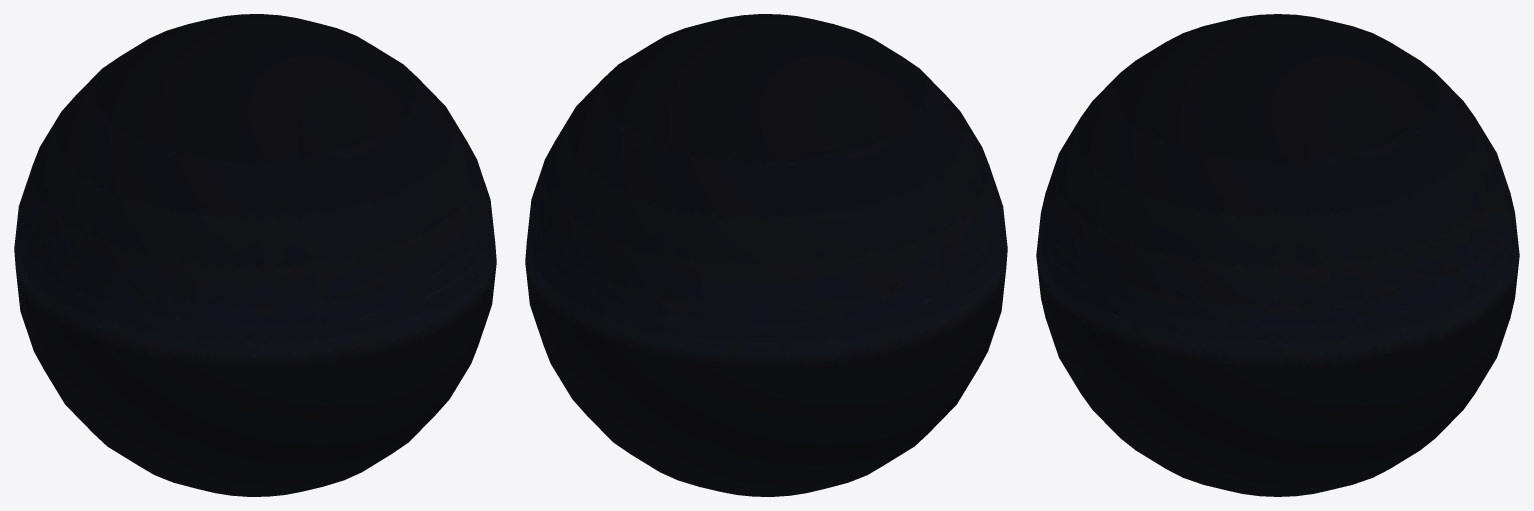
Rendered from room.gltf.
3 renders of one model, left to right at view 1: azimuth 30°, elevation 25°; view 2: azimuth 150°, elevation 25°; view 3: azimuth 270°, elevation 25°, orthographic.
Parts seen in each view (by area): view 1: SkyDome; view 2: SkyDome; view 3: SkyDome.
Boxes of the visible parts, left/top/right/bottom form: SkyDome: left=14, top=14, right=496, bottom=496; SkyDome: left=525, top=14, right=1007, bottom=496; SkyDome: left=1036, top=14, right=1519, bottom=496.
Bounding box in the file's own units: 240 × 240 × 240.
38 materials, 38 textured.
